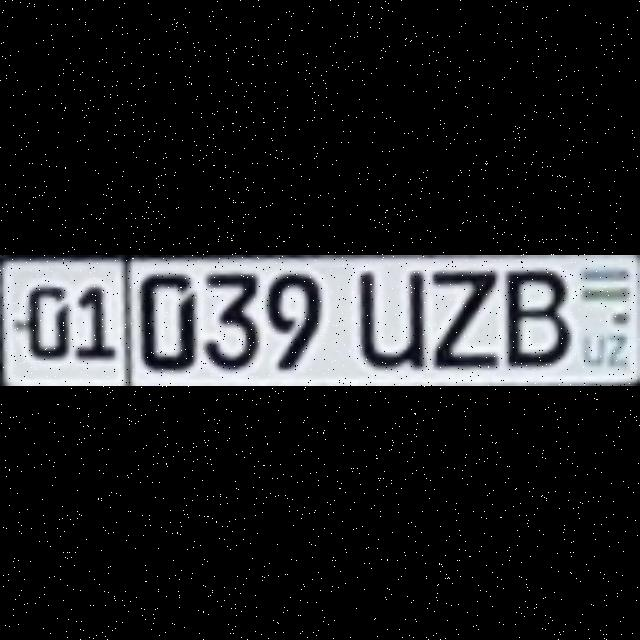0: (134, 267, 190, 365), (23, 280, 66, 356)
1: (72, 280, 111, 356)
3: (197, 270, 253, 366)
9: (259, 267, 315, 365)
B: (502, 268, 564, 362)
U: (354, 267, 420, 365)
Z: (426, 264, 492, 362)
